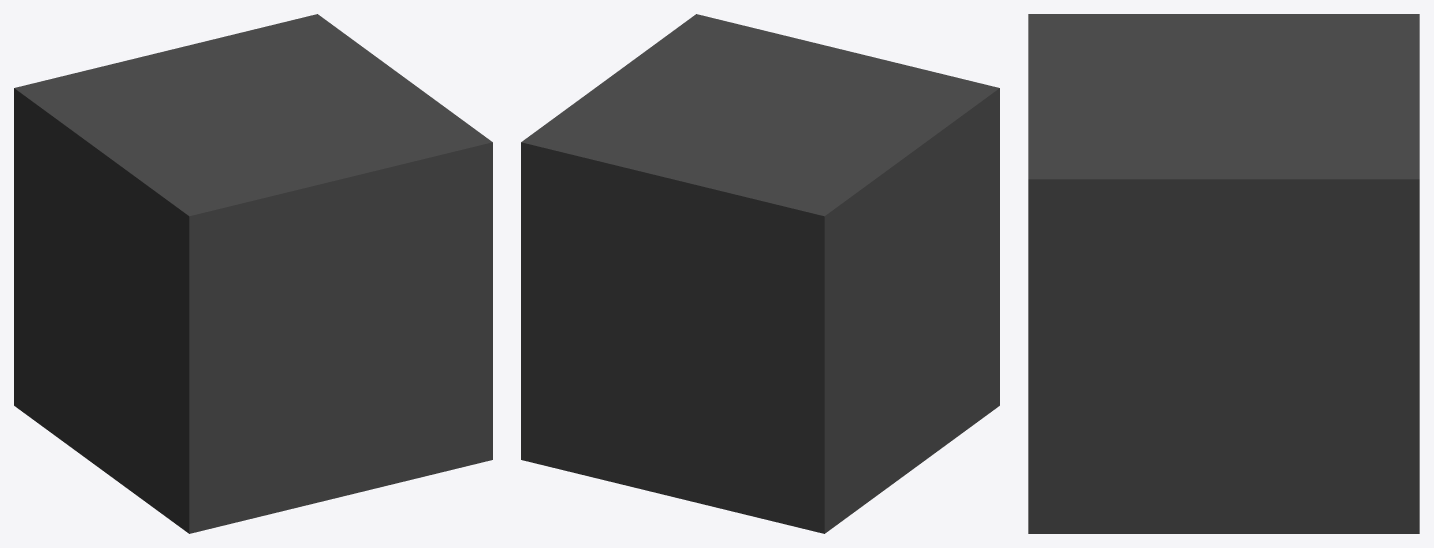
The model's file is Metal.obj.
3 renders of one model, left to right at view 1: azimuth 30°, elevation 25°; view 2: azimuth 150°, elevation 25°; view 3: azimuth 270°, elevation 25°, orthographic. The views are drawn at different scales.
Size of the model in its own units: 3.2 by 3.2 by 3.2.
